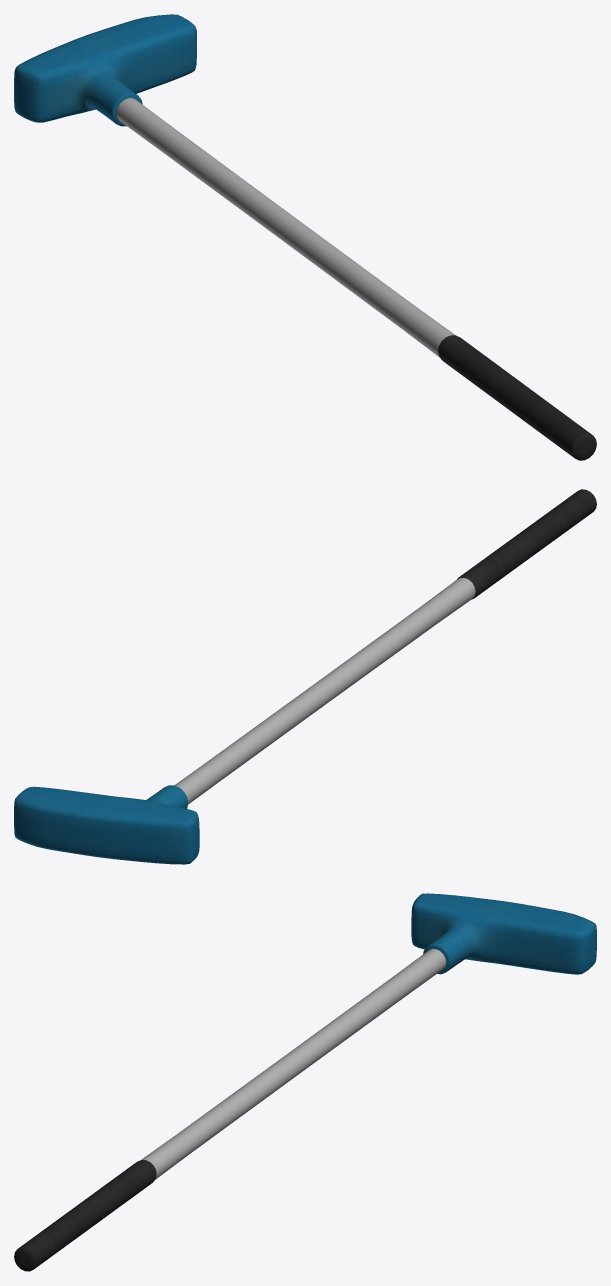
The model's file is palo-modelo.glb.
The picture shows the model from 3 angles, top to bottom: view 1: azimuth 30°, elevation 25°; view 2: azimuth 150°, elevation 25°; view 3: azimuth 330°, elevation 25°; orthographic projection. The views are drawn at different scales.
Visible parts, largest first — view 1: pCube2_standardSurface1_0.001; view 2: pCube2_standardSurface1_0.001; view 3: pCube2_standardSurface1_0.001.
Part boxes in pixels (x1,y1,x2,y2): pCube2_standardSurface1_0.001: (14,14,596,460); pCube2_standardSurface1_0.001: (14,489,596,864); pCube2_standardSurface1_0.001: (14,893,596,1271).
Size of the model in its own units: 0.1913 by 0.052 by 0.9488.
1 material, 1 textured.
